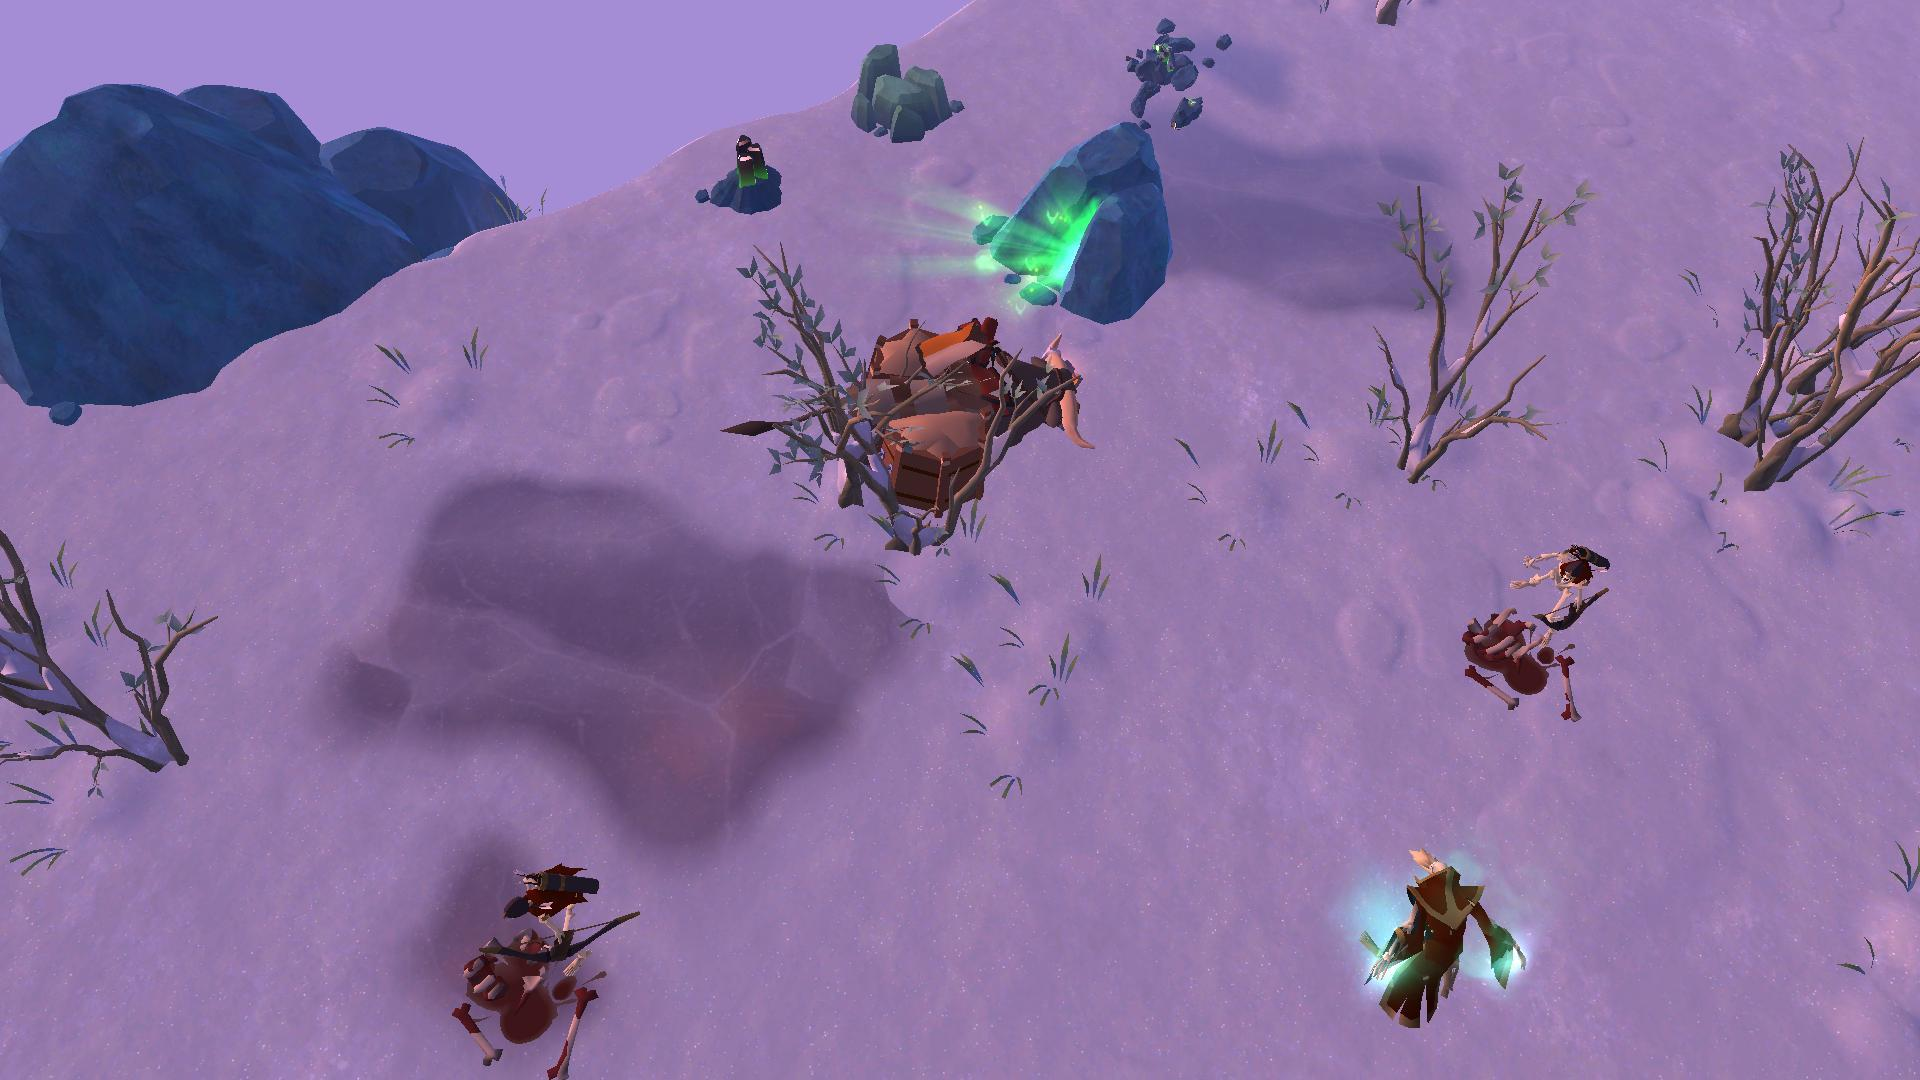enemy_factionUndead: (1357, 853, 1526, 1033), (498, 860, 630, 971), (1514, 534, 1607, 645)
ore_t3: (727, 129, 771, 195)
rock_t3: (851, 34, 956, 154)
